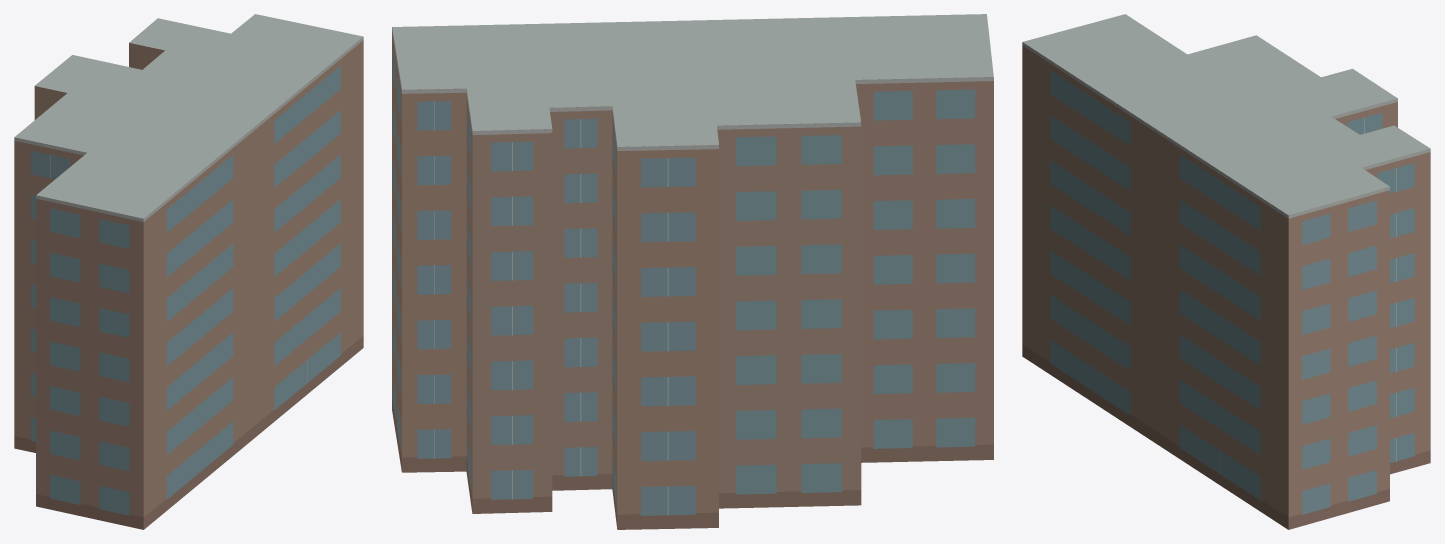
File: survey-upis-32734932.glb
3 renders of one model, left to right at view 1: azimuth 30°, elevation 25°; view 2: azimuth 150°, elevation 25°; view 3: azimuth 270°, elevation 25°, orthographic. The views are drawn at different scales.
Parts seen in each view (by area): view 1: survey-upis-32734932.tmp; view 2: survey-upis-32734932.tmp; view 3: survey-upis-32734932.tmp.
Boxes of the visible parts, x1=… form: survey-upis-32734932.tmp: x1=14, y1=14, x2=363, y2=529; survey-upis-32734932.tmp: x1=392, y1=14, x2=993, y2=529; survey-upis-32734932.tmp: x1=1022, y1=14, x2=1430, y2=529.
Size of the model in its own units: 30.76 by 22.4 by 26.36.
